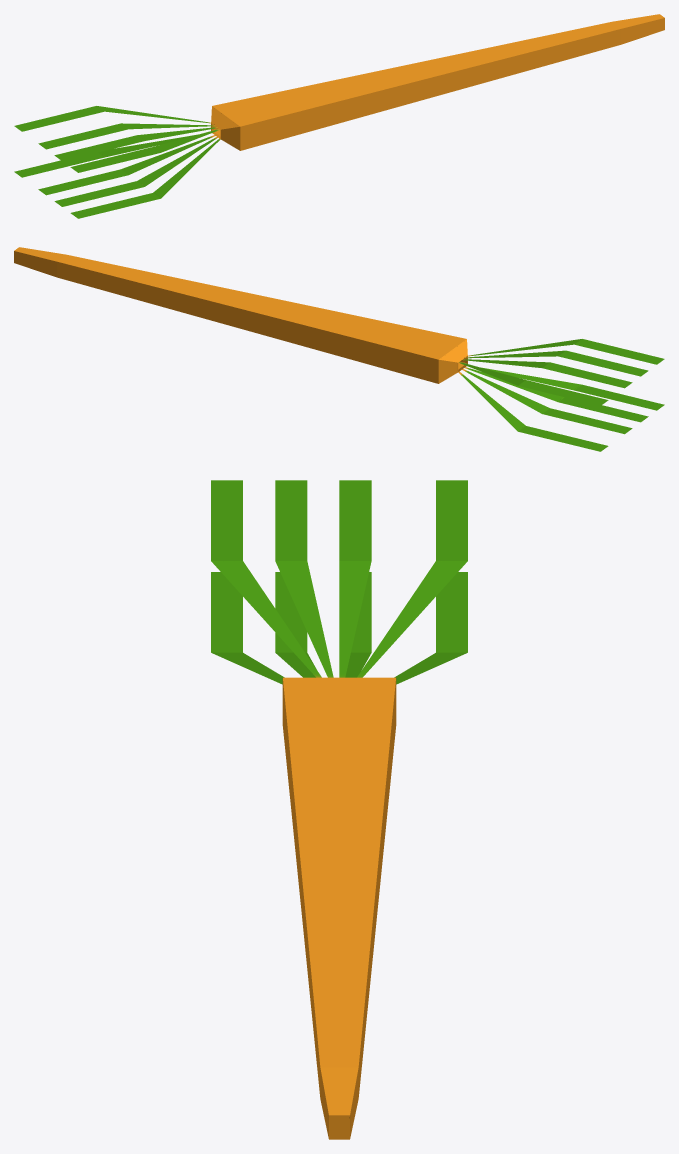
Rendered from goodcarrot.glb.
3 views of the same model, one above another, from view 1: azimuth 30°, elevation 25°; view 2: azimuth 150°, elevation 25°; view 3: azimuth 270°, elevation 25° (orthographic). The views are drawn at different scales.
Parts seen in each view (by area): view 1: Cube; view 2: Cube; view 3: Cube.
Part boxes in pixels (x1,y1,x2,y2): Cube: (14, 14, 664, 218); Cube: (14, 247, 664, 451); Cube: (211, 480, 467, 1139).
Size of the model in its own units: 103 by 7.29 by 18.53.
Materials: 1 (1 with a texture image).
